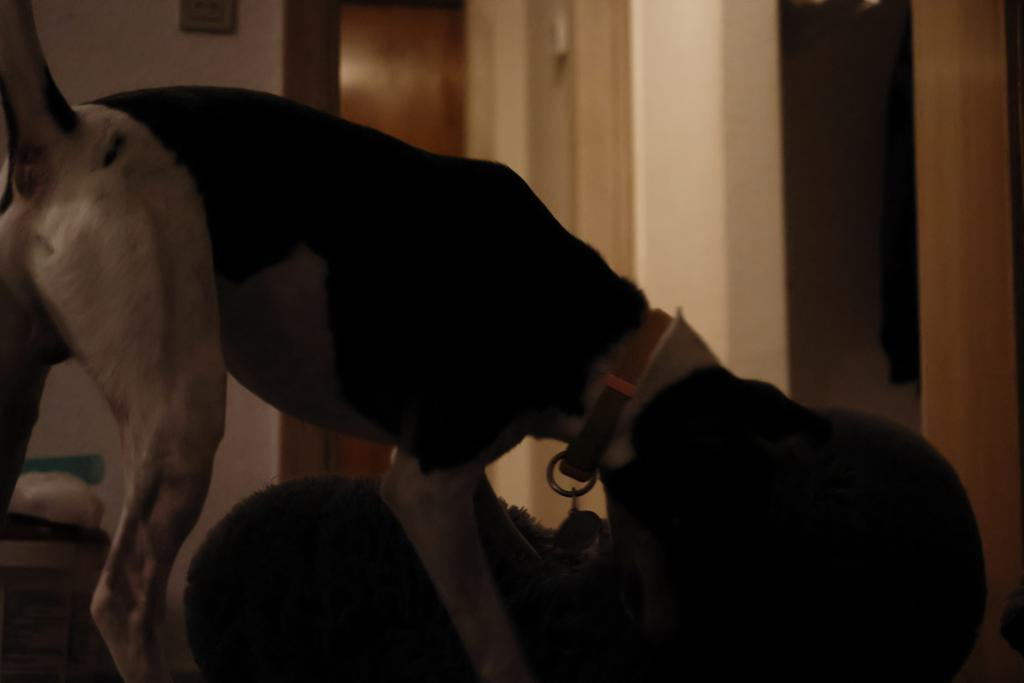Dog: (0, 0, 848, 683)
